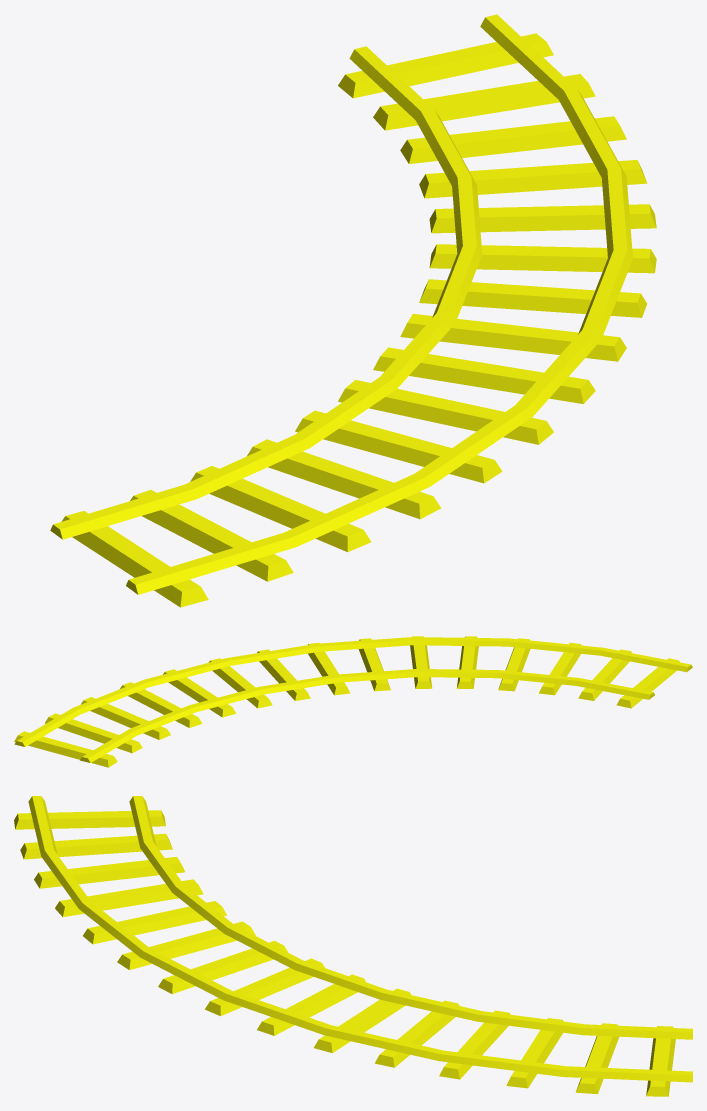
Rendered from kaykit-tracks-curve.glb.
3 renders of one model, top to bottom at view 1: azimuth 30°, elevation 25°; view 2: azimuth 150°, elevation 25°; view 3: azimuth 270°, elevation 25°, orthographic. The views are drawn at different scales.
Parts seen in each view (by area): view 1: tracks_curve; view 2: tracks_curve; view 3: tracks_curve.
Boxes of the visible parts, x1=… form: tracks_curve: x1=50, y1=14, x2=656, y2=607; tracks_curve: x1=14, y1=636, x2=692, y2=767; tracks_curve: x1=14, y1=796, x2=692, y2=1096.
Bounding box in the file's own units: 2.24 × 0.0501 × 2.24.
